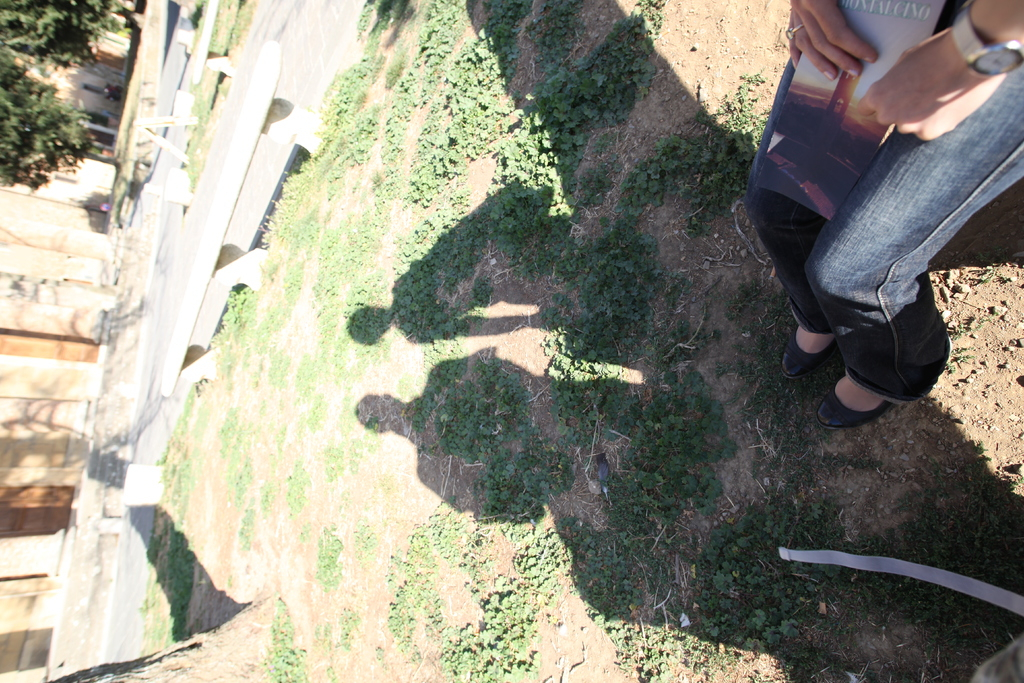Footwear: (819, 370, 895, 428), (778, 325, 836, 381)
